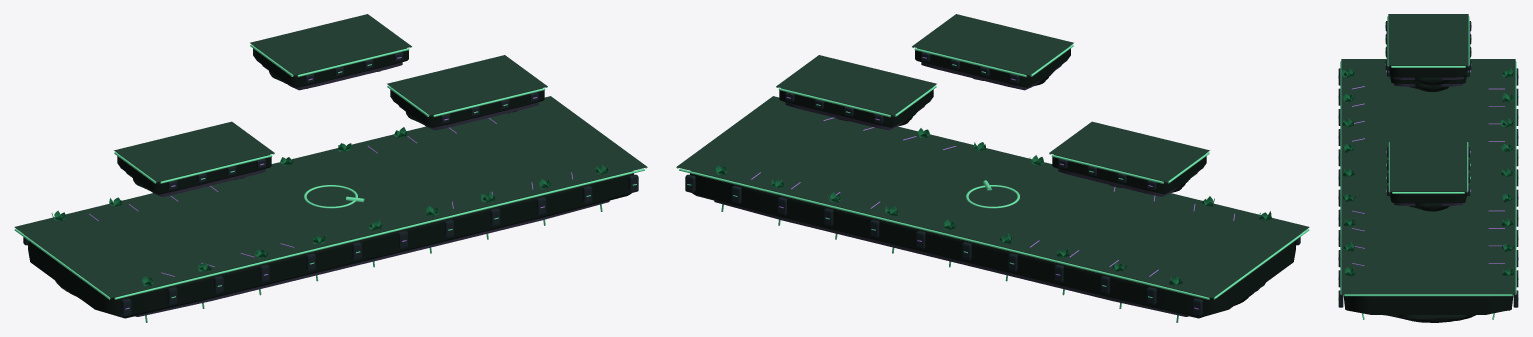
Rendered from reactor-garden.obj.
3 renders of one model, left to right at view 1: azimuth 30°, elevation 25°; view 2: azimuth 150°, elevation 25°; view 3: azimuth 270°, elevation 25°, orthographic. The views are drawn at different scales.
Visible parts, largest first — view 1: arena-deck_part_180, beveled-plate_part_0, arena-deck_part_183, arena-deck_part_182, arena-deck_part_181, cylinder_part_110, beveled-plate_part_86, beveled-plate_part_68, beveled-plate_part_50, beveled-plate_part_1; view 2: arena-deck_part_180, beveled-plate_part_0, arena-deck_part_183, arena-deck_part_182, arena-deck_part_181, cylinder_part_108, beveled-plate_part_86, beveled-plate_part_68, beveled-plate_part_50, beveled-plate_part_1; view 3: arena-deck_part_180, arena-deck_part_183, arena-deck_part_182, beveled-plate_part_0, beveled-plate_part_86, beveled-plate_part_68, asteroid-2_part_173, cylinder_part_111, cylinder_part_108, cylinder_part_110, asteroid-2_part_176, asteroid-2_part_175 (+4 smaller).
Part boxes in pixels (x1,y1,x2,y2): arena-deck_part_180: (14,96,647,297); beveled-plate_part_0: (28,171,633,318); arena-deck_part_183: (250,14,411,75); arena-deck_part_182: (387,55,547,115); arena-deck_part_181: (114,121,274,181); cylinder_part_110: (114,168,644,299); beveled-plate_part_86: (253,46,408,87); beveled-plate_part_68: (390,87,544,127); beveled-plate_part_50: (117,154,271,194); beveled-plate_part_1: (135,200,609,316); arena-deck_part_180: (676,96,1309,297); beveled-plate_part_0: (690,171,1295,318); arena-deck_part_183: (912,14,1073,75); arena-deck_part_182: (776,55,936,115); arena-deck_part_181: (1049,121,1209,181); cylinder_part_108: (679,168,1209,299); beveled-plate_part_86: (915,46,1070,87); beveled-plate_part_68: (779,87,933,127); beveled-plate_part_50: (1052,154,1206,194); beveled-plate_part_1: (714,200,1188,316); arena-deck_part_180: (1341,59,1515,293); arena-deck_part_183: (1388,14,1468,65); arena-deck_part_182: (1389,140,1467,191); beveled-plate_part_0: (1343,294,1513,314); beveled-plate_part_86: (1389,65,1467,77); beveled-plate_part_68: (1390,191,1466,203); asteroid-2_part_173: (1383,315,1475,322); cylinder_part_111: (1344,294,1512,296); cylinder_part_108: (1515,61,1516,294); cylinder_part_110: (1340,61,1341,294); asteroid-2_part_176: (1408,77,1450,85); asteroid-2_part_175: (1409,203,1449,211).
Size of the model in its own units: 23.69 by 8.31 by 7.67.
